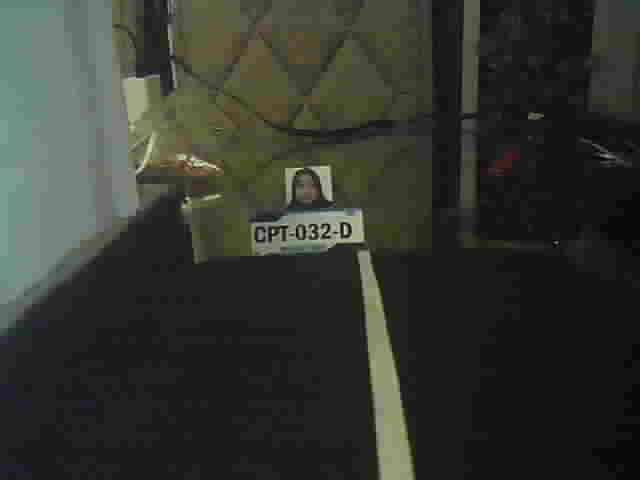PLACA: (247, 206, 366, 256)
ROSTRO: (286, 167, 333, 210)
